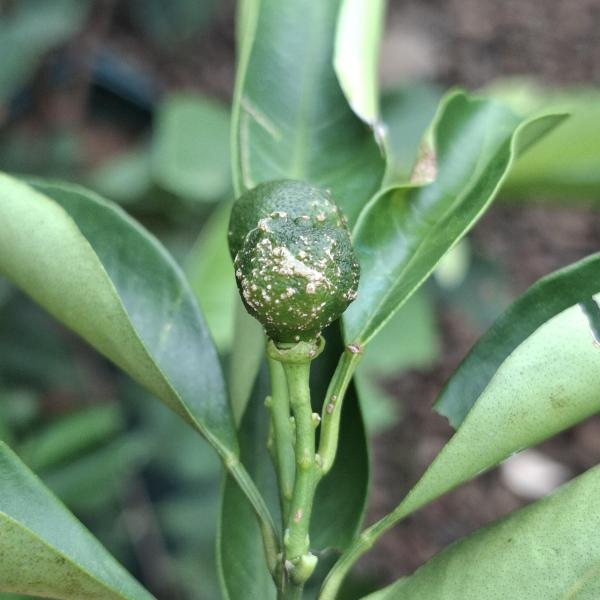Scab: (228, 214, 371, 350), (219, 176, 366, 279)
